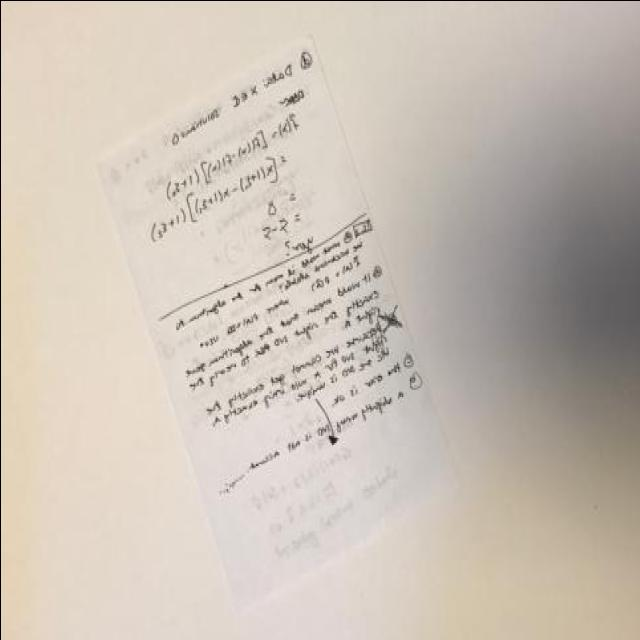kertas: (89, 23, 460, 611)
